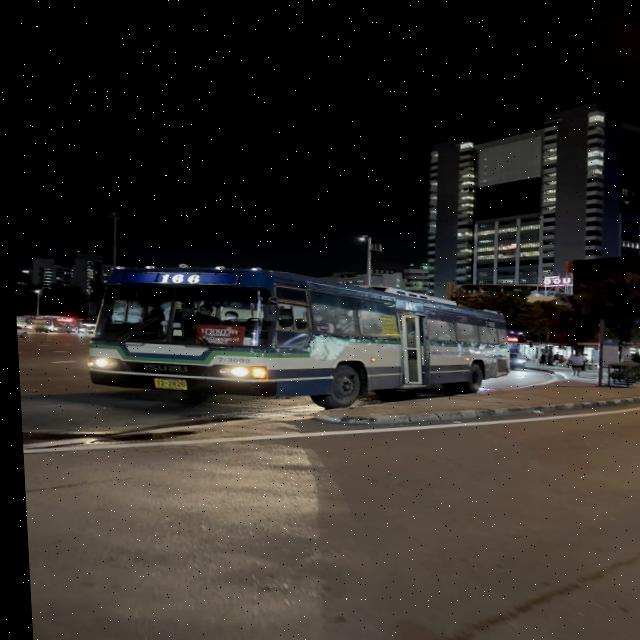BMTA-bus: (74, 255, 513, 423)
Bus-Line-Number: (148, 272, 204, 284)
Destination-Sign-Extra-Bus: (193, 324, 243, 345)
